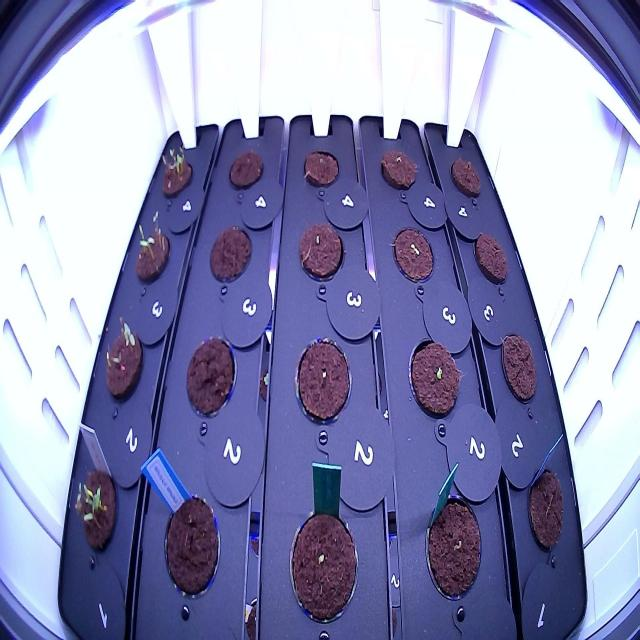germination: (64, 446, 125, 562), (99, 306, 153, 413), (128, 203, 176, 295), (387, 218, 440, 292), (150, 134, 198, 207)
pod: (279, 495, 364, 631), (156, 477, 226, 610), (420, 484, 486, 613), (290, 327, 357, 438), (179, 321, 243, 426), (404, 322, 466, 428), (522, 458, 570, 567), (203, 213, 256, 302), (492, 318, 541, 413), (292, 215, 350, 288), (468, 222, 515, 298), (224, 136, 269, 203), (374, 138, 424, 198), (299, 140, 345, 198), (445, 146, 487, 204)
